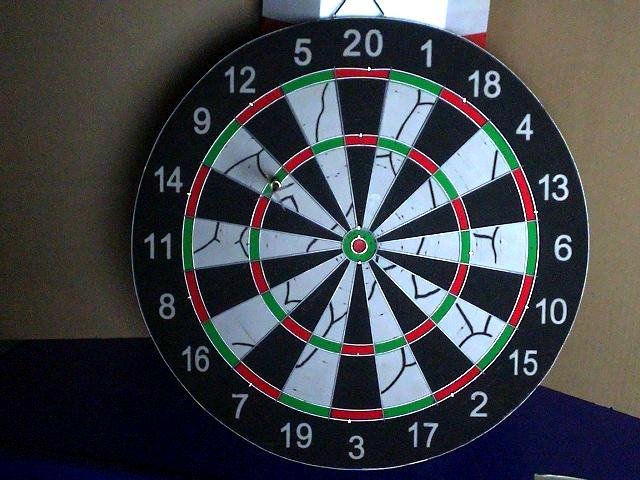triple_9: (261, 171, 287, 197)
